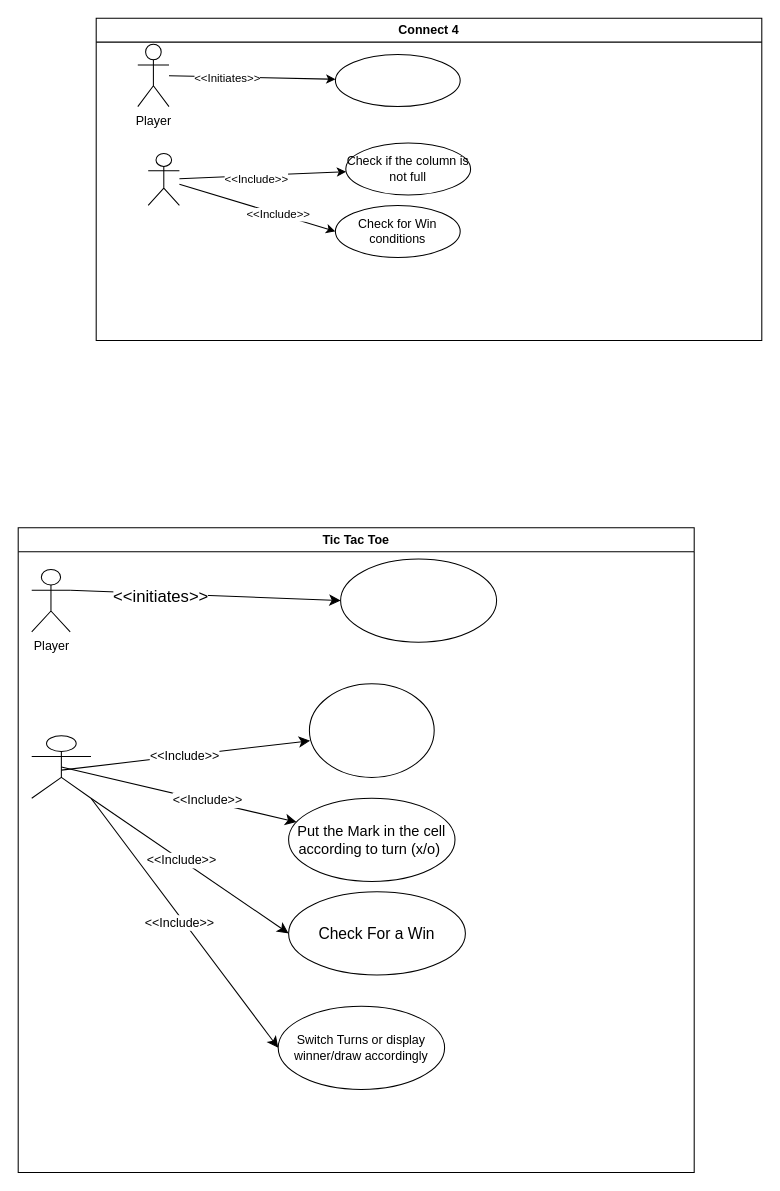
Some shapes in this 780 by 1191 pixel diagram are drawn without their labels. The shapes that lost their labels are listed below. From the top down, each one's centre as x and y in pixels, then its label:
the point at 397,80: Insert Disc
the point at 163,178: Game Logic Controller
the point at 418,600: Place Mark
the point at 371,730: validate cell
the point at 61,766: Console
